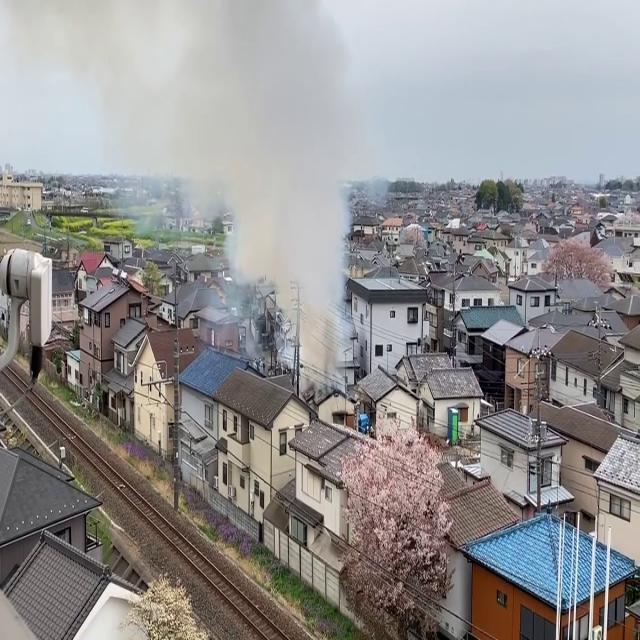Smoke: (201, 7, 371, 389)
